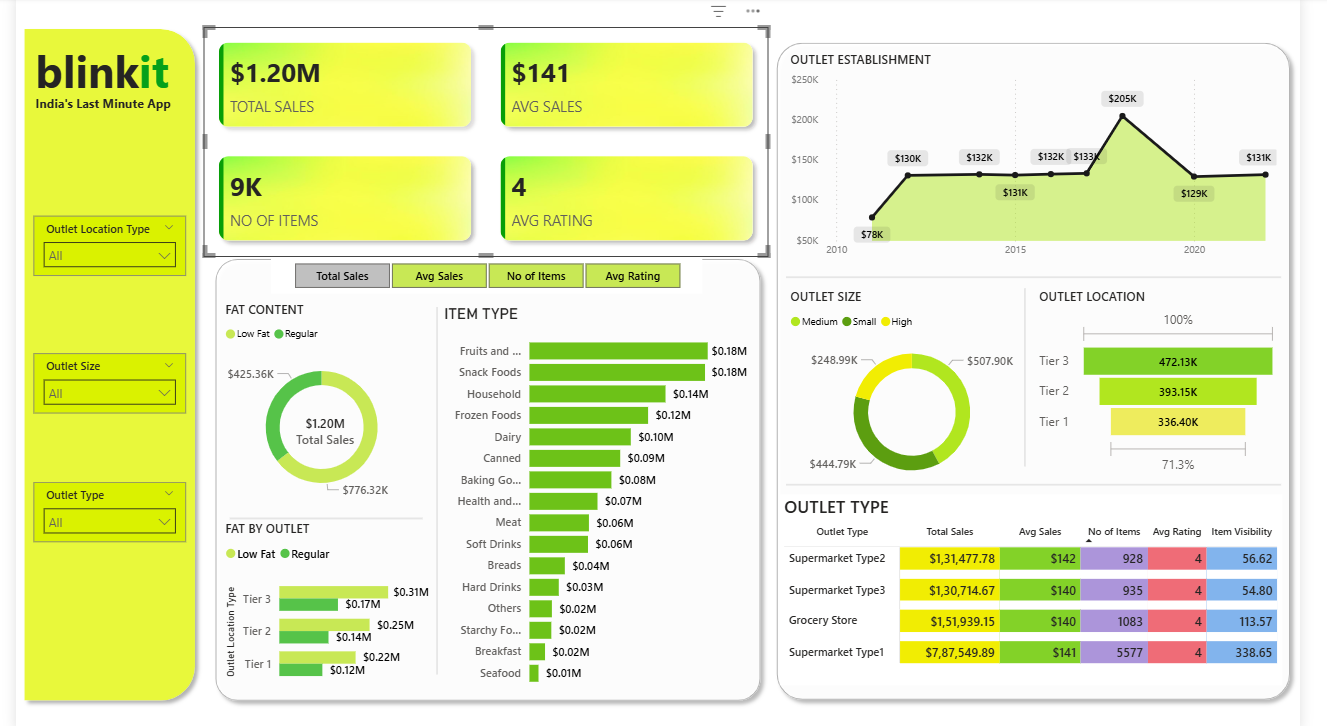

This screenshot's page, from the dashboard's own definition file:
{"tool":"powerbi","page":{"name":"Page 1","canvas":[1400,800],"ordinal":0},"visuals":[{"type":"shape","box":[0,25.5,204.1,750.4],"z":0},{"type":"textbox","box":[16.5,42,171.1,78],"z":1000},{"type":"textbox","box":[16.5,102.1,171.1,31.5],"z":2000},{"type":"cardVisual","fields":{"Data":["BlinkIT Grocery Data.Total Sales","BlinkIT Grocery Data.Avg Sales","BlinkIT Grocery Data.No of Items","BlinkIT Grocery Data.Avg Rating"]},"box":[204.5,32.7,616.2,250.9],"z":3000},{"type":"shape","box":[208.6,276.2,612.4,499.8],"z":4000},{"type":"donutChart","title":"FAT CONTENT","fields":{"Y":["BlinkIT Grocery Data.Total Sales"],"Category":["BlinkIT Grocery Data.Item Fat Content"]},"box":[223.9,331.1,219.8,230.6],"z":5000},{"type":"slicer","fields":{"Values":["Metrics.Metrics"]},"box":[277.5,284.2,470.5,40.2],"z":6000},{"type":"cardVisual","fields":{"Data":["BlinkIT Grocery Data.Total Sales"]},"box":[276.1,433,122,79.1],"z":7000},{"type":"clusteredBarChart","title":"FAT BY OUTLET","fields":{"Y":["BlinkIT Grocery Data.Total Sales"],"Category":["BlinkIT Grocery Data.Outlet Location Type"],"Series":["BlinkIT Grocery Data.Item Fat Content"]},"box":[223.9,569.7,231.9,191.7],"z":8000},{"type":"shape","box":[233.2,542.9,210.5,52.3],"z":9000},{"type":"shape","box":[447.7,337.8,24.1,400.8],"z":10000},{"type":"barChart","title":"ITEM TYPE","fields":{"Y":["BlinkIT Grocery Data.Total Sales"],"Category":["BlinkIT Grocery Data.Item Type"]},"box":[462.5,335.1,340.5,426.3],"z":11000},{"type":"shape","box":[820.4,41.6,577.8,734.6],"z":12000},{"type":"lineChart","title":"OUTLET ESTABLISHMENT","fields":{"Y":["BlinkIT Grocery Data.Total Sales"],"Category":["BlinkIT Grocery Data.Outlet Establishment Year"]},"box":[840.5,59,540.2,234.6],"z":13000},{"type":"shape","box":[840.5,278.8,540.2,52.3],"z":14000},{"type":"donutChart","title":"OUTLET SIZE","fields":{"Y":["BlinkIT Grocery Data.Total Sales"],"Category":["BlinkIT Grocery Data.Outlet Size"]},"box":[840.5,317.7,275,225],"z":15000},{"type":"shape","box":[1069.7,317.7,60.3,194.4],"z":16000},{"type":"funnel","title":"OUTLET LOCATION","fields":{"Y":["Sum(BlinkIT Grocery Data.Sales)"],"Category":["BlinkIT Grocery Data.Outlet Location Type"]},"box":[1111.3,317.7,269.4,207.8],"z":17000},{"type":"shape","box":[839.1,505.4,540.2,52.3],"z":18000},{"type":"pivotTable","title":"OUTLET TYPE","fields":{"Rows":["BlinkIT Grocery Data.Outlet Type"],"Values":["BlinkIT Grocery Data.Total Sales","BlinkIT Grocery Data.Avg Sales","BlinkIT Grocery Data.No of Items","BlinkIT Grocery Data.Avg Rating","Sum(BlinkIT Grocery Data.Item Visibility)"]},"box":[832.4,542.9,548.3,207.8],"z":19000},{"type":"slicer","fields":{"Values":["BlinkIT Grocery Data.Outlet Location Type"]},"box":[18.8,238.6,166.2,65.7],"z":20000},{"type":"slicer","fields":{"Values":["BlinkIT Grocery Data.Outlet Size"]},"box":[18.8,388.7,166.2,65.7],"z":22000},{"type":"slicer","fields":{"Values":["BlinkIT Grocery Data.Outlet Type"]},"box":[18.8,529.5,166.2,65.7],"z":23000}]}

Visuals, with their boxes on the page's 1400x800 design canvas (x1, y1, x2, y2). These are canvas units, not pixel positions in the 1327x726 screenshot, which may show the page scaled, cropped or inside an application window:
shape: crop(0, 26, 204, 776)
textbox: crop(16, 42, 188, 120)
textbox: crop(16, 102, 188, 134)
cardVisual - BlinkIT Grocery Data.Total Sales x BlinkIT Grocery Data.Avg Sales: crop(204, 33, 821, 284)
shape: crop(209, 276, 821, 776)
"FAT CONTENT" donutChart: crop(224, 331, 444, 562)
slicer - Metrics.Metrics: crop(278, 284, 748, 324)
cardVisual - BlinkIT Grocery Data.Total Sales: crop(276, 433, 398, 512)
"FAT BY OUTLET" clusteredBarChart: crop(224, 570, 456, 761)
shape: crop(233, 543, 444, 595)
shape: crop(448, 338, 472, 739)
"ITEM TYPE" barChart: crop(462, 335, 803, 761)
shape: crop(820, 42, 1398, 776)
"OUTLET ESTABLISHMENT" lineChart: crop(840, 59, 1381, 294)
shape: crop(840, 279, 1381, 331)
"OUTLET SIZE" donutChart: crop(840, 318, 1116, 543)
shape: crop(1070, 318, 1130, 512)
"OUTLET LOCATION" funnel: crop(1111, 318, 1381, 526)
shape: crop(839, 505, 1379, 558)
"OUTLET TYPE" pivotTable: crop(832, 543, 1381, 751)
slicer - BlinkIT Grocery Data.Outlet Location Type: crop(19, 239, 185, 304)
slicer - BlinkIT Grocery Data.Outlet Size: crop(19, 389, 185, 454)
slicer - BlinkIT Grocery Data.Outlet Type: crop(19, 530, 185, 595)
